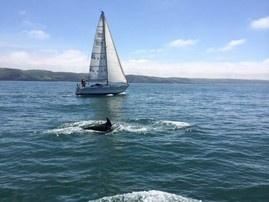fanchuan: (73, 6, 136, 95)
fish: (81, 115, 114, 136)
